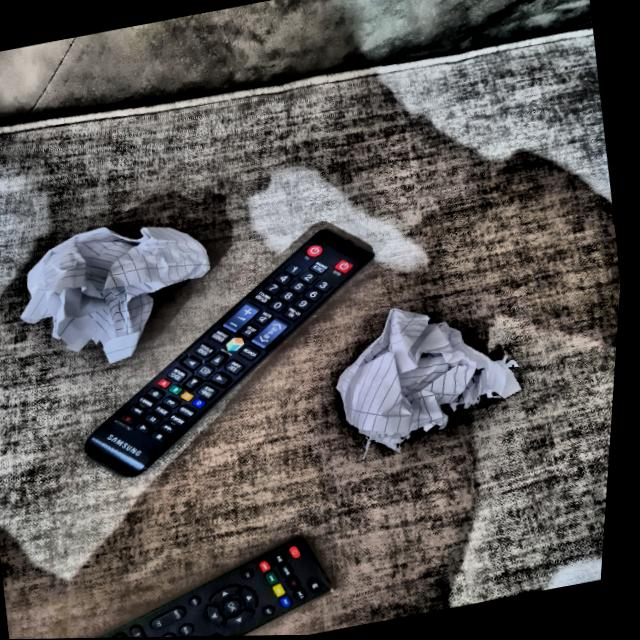Paper: (0, 206, 241, 372), (315, 288, 535, 461)
